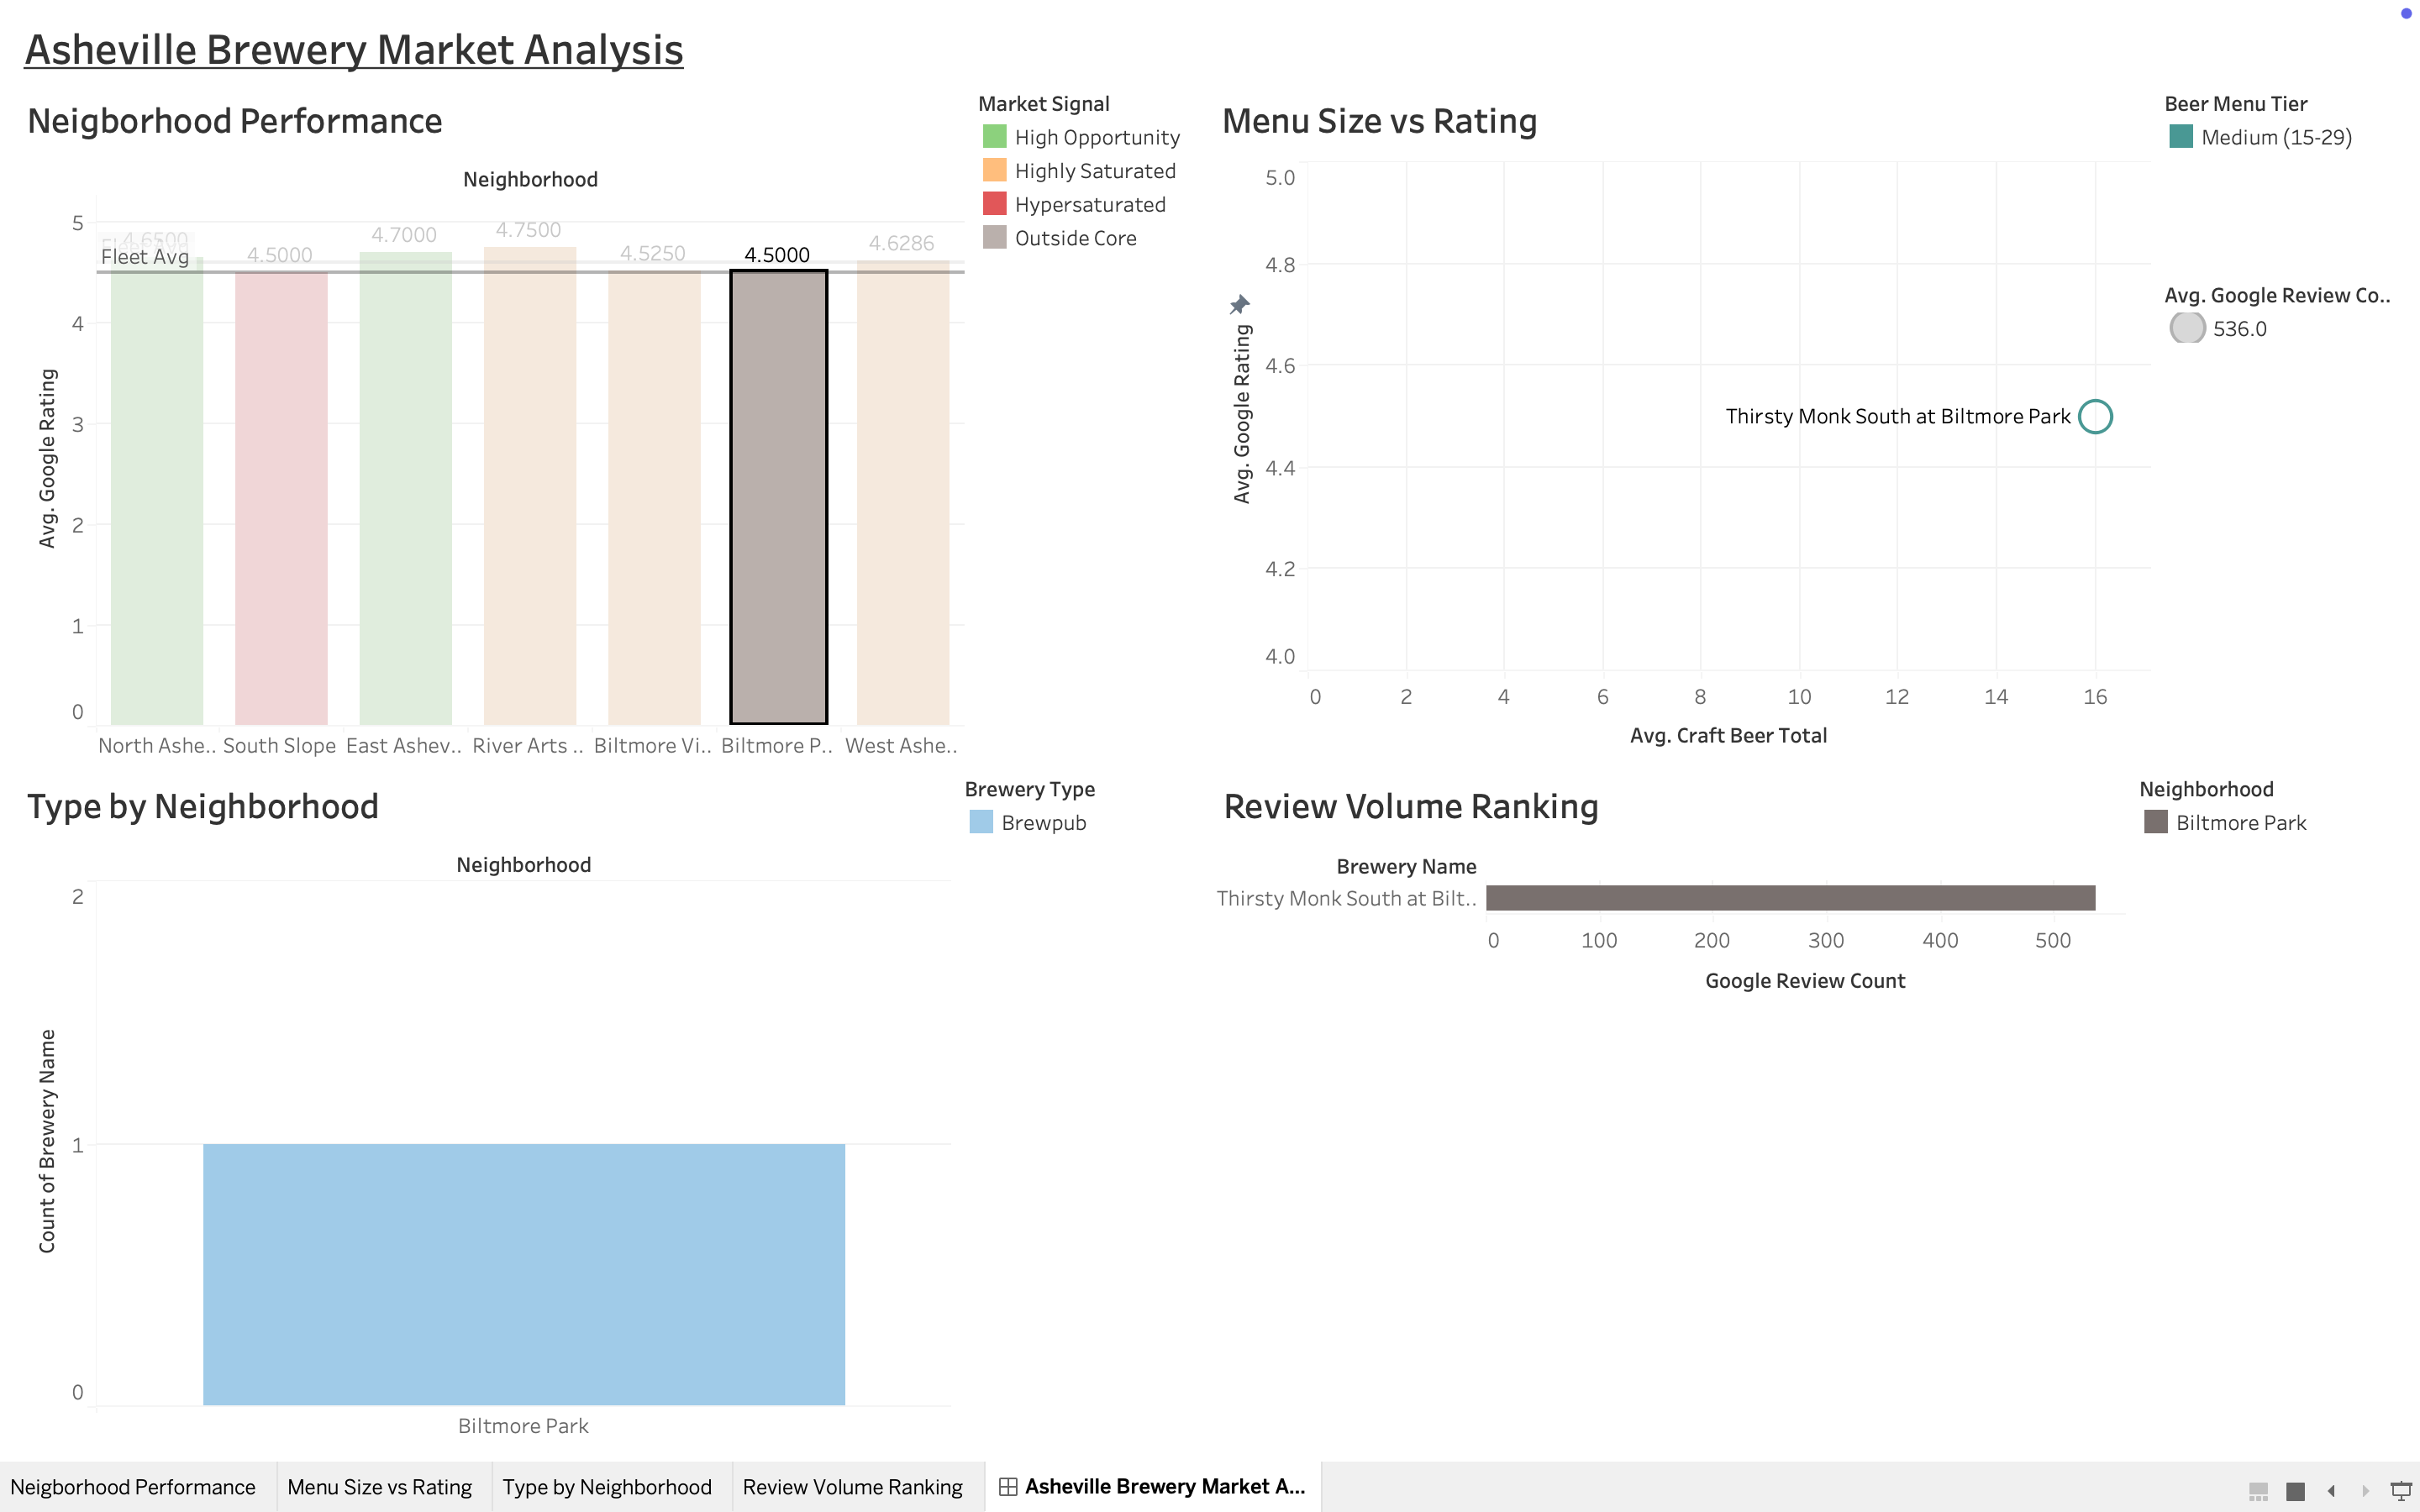

Layout of this report page (visuals, bound fields, positions):
{"tool":"tableau","page":{"name":"Asheville Brewery Market Analysis","canvas":[1000,1000],"units":"permille","ordinal":0},"visuals":[{"type":"title","box":[16.1,11.8,967.8,60.5]},{"type":"worksheet","title":"Neigborhood Performance","mark":"Automatic","rows":["google_rating"],"cols":["neighborhood"],"box":[16.1,72.3,199.7,459.9]},{"type":"legend","title":"Neigborhood Performance","param":"[federated.0e7pakv050v0t112rgxxq1gu1ju3].[none:market_signal:nk]","box":[215.8,72.3,283.7,156.3]},{"type":"worksheet","title":"Menu Size vs Rating","mark":"Automatic","rows":["google_rating"],"cols":["craft_beer_total"],"box":[499.5,72.3,383.8,459.9]},{"type":"legend","title":"Menu Size vs Rating","param":"[federated.0e7pakv050v0t112rgxxq1gu1ju3].[none:beer_menu_tier:nk]","box":[883.3,72.3,100.6,128.5]},{"type":"legend","title":"Menu Size vs Rating","param":"[federated.0e7pakv050v0t112rgxxq1gu1ju3].[avg:google_review_count:qk]","box":[883.3,200.7,100.6,331.4]},{"type":"worksheet","title":"Type by Neighborhood","mark":"Automatic","rows":["brewery_name"],"cols":["neighborhood"],"box":[16.1,532.2,382.1,456]},{"type":"legend","title":"Type by Neighborhood","param":"[federated.0e7pakv050v0t112rgxxq1gu1ju3].[none:brewery_type:nk]","box":[398.2,532.2,101.8,456]},{"type":"worksheet","title":"Review Volume Ranking","mark":"Automatic","rows":["brewery_name"],"cols":["google_review_count"],"box":[500,532.2,372.9,456]},{"type":"legend","title":"Review Volume Ranking","param":"[federated.0e7pakv050v0t112rgxxq1gu1ju3].[none:neighborhood:nk]","box":[872.9,532.2,111,456]}]}

Visuals, with their boxes on the dashboard's canvas, which has no fixed pixel size, in thousandths of its width and height (x1, y1, x2, y2). These are canvas units, not pixel positions in the 2420x1512 screenshot, which may show the page scaled, cropped or inside an application window:
title: locate(16, 12, 984, 72)
"Neigborhood Performance" worksheet: locate(16, 72, 216, 532)
"Neigborhood Performance" legend: locate(216, 72, 500, 229)
"Menu Size vs Rating" worksheet: locate(500, 72, 883, 532)
"Menu Size vs Rating" legend: locate(883, 72, 984, 201)
"Menu Size vs Rating" legend: locate(883, 201, 984, 532)
"Type by Neighborhood" worksheet: locate(16, 532, 398, 988)
"Type by Neighborhood" legend: locate(398, 532, 500, 988)
"Review Volume Ranking" worksheet: locate(500, 532, 873, 988)
"Review Volume Ranking" legend: locate(873, 532, 984, 988)
